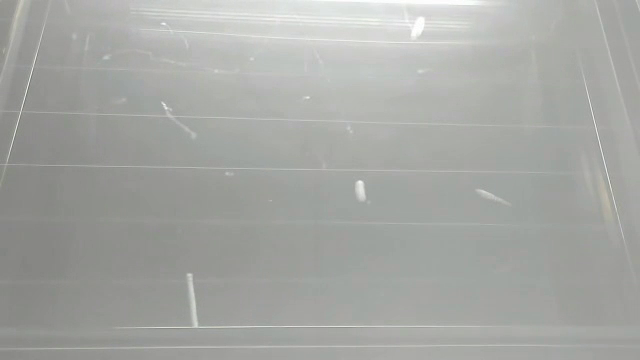alpha: (181, 269, 206, 331), (473, 186, 516, 209), (351, 177, 375, 208), (408, 14, 428, 43)
